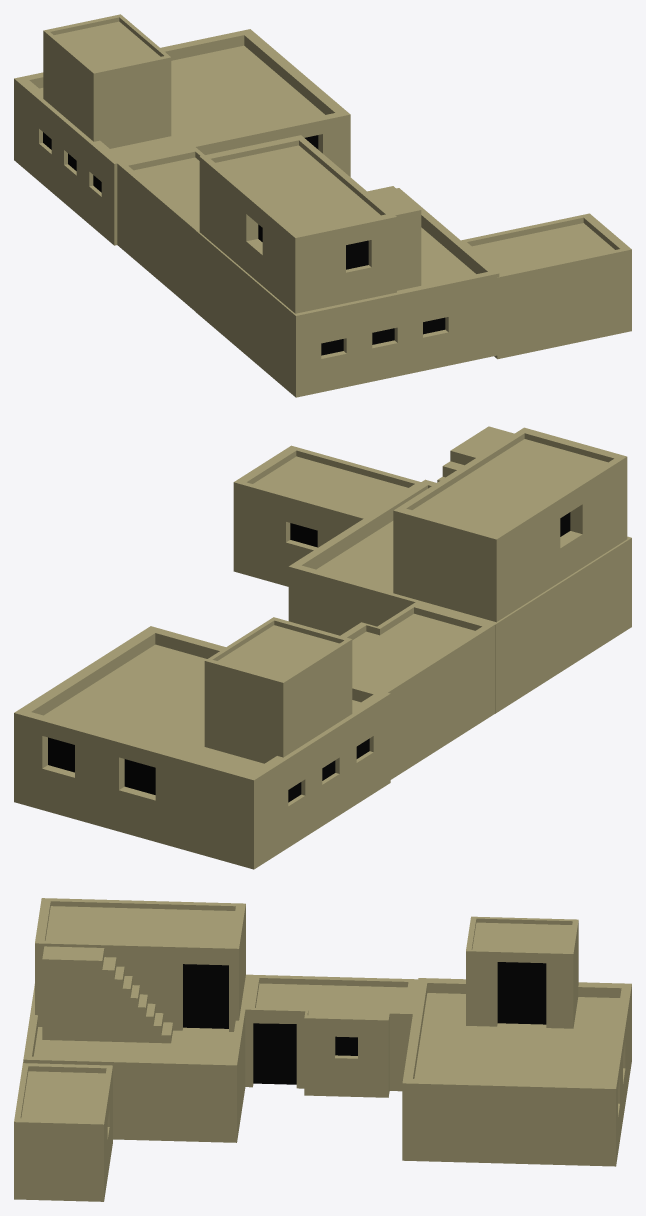
Rendered from _mall house.fbx.
3 views of the same model, one above another, from view 1: azimuth 30°, elevation 25°; view 2: azimuth 150°, elevation 25°; view 3: azimuth 270°, elevation 25° (orthographic). The views are drawn at different scales.
Visible parts, largest first — view 1: polySurface165; view 2: polySurface165; view 3: polySurface165.
Part boxes in pixels (x1,y1,x2,y2): polySurface165: (14,14,631,397); polySurface165: (14,426,631,869); polySurface165: (14,898,631,1201).
Bounding box in the file's own units: 1040 × 486 × 1785.
